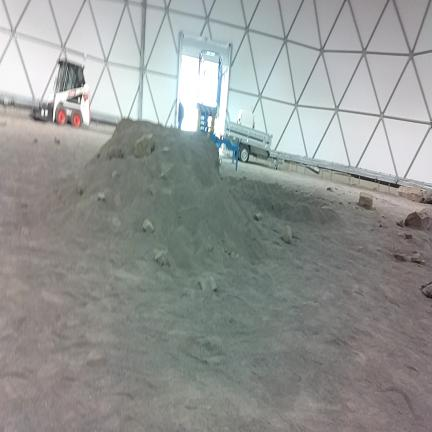Rock: (404, 210, 432, 231), (398, 187, 431, 203), (134, 134, 154, 158), (398, 186, 422, 202), (154, 250, 170, 266), (199, 276, 216, 291), (159, 163, 174, 178), (359, 193, 372, 209), (281, 225, 292, 243), (393, 249, 408, 262), (109, 148, 123, 159), (411, 253, 425, 264), (143, 219, 154, 232), (422, 286, 431, 298), (423, 190, 431, 203), (272, 202, 282, 212), (20, 227, 30, 237), (114, 194, 121, 207), (112, 217, 121, 227), (205, 242, 213, 253), (161, 187, 171, 195), (78, 182, 84, 195), (254, 212, 262, 221), (421, 281, 431, 288), (149, 184, 155, 195), (98, 193, 105, 201), (21, 200, 28, 208), (380, 221, 387, 228), (397, 220, 404, 226), (55, 137, 60, 144), (405, 234, 412, 239), (112, 171, 117, 178), (0, 122, 6, 127), (33, 138, 38, 144), (163, 147, 169, 152), (327, 187, 333, 191), (339, 201, 343, 205), (97, 153, 100, 158), (225, 247, 228, 252), (236, 254, 239, 258)
